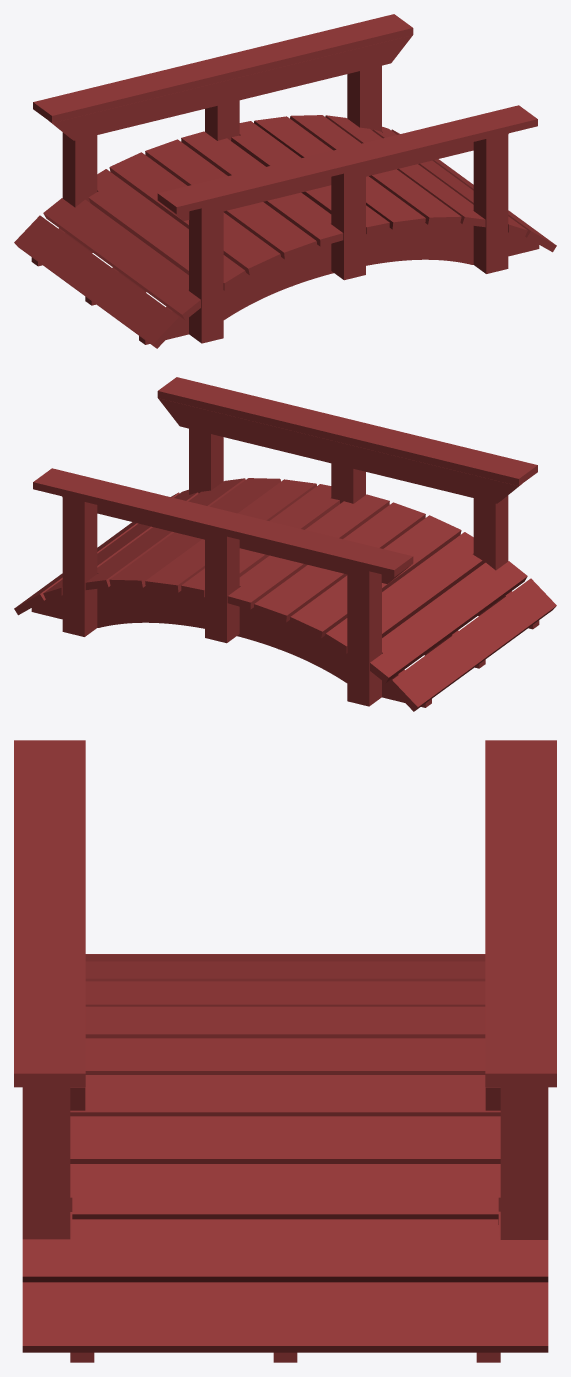
File: bridge.glb
3 renders of one model, top to bottom at view 1: azimuth 30°, elevation 25°; view 2: azimuth 150°, elevation 25°; view 3: azimuth 270°, elevation 25°, orthographic. The views are drawn at different scales.
Parts seen in each view (by area): view 1: Object_3, Object_2, Object_4; view 2: Object_3, Object_2, Object_4; view 3: Object_4, Object_3.
Part boxes in pixels (x1,y1,x2,y2): Object_3: [14, 14, 556, 348]; Object_2: [31, 35, 539, 344]; Object_4: [43, 115, 527, 319]; Object_3: [14, 377, 556, 711]; Object_2: [31, 398, 539, 707]; Object_4: [43, 478, 527, 682]; Object_4: [22, 954, 548, 1282]; Object_3: [14, 740, 556, 1362].
Size of the model in its own units: 188 by 64.21 by 115.
